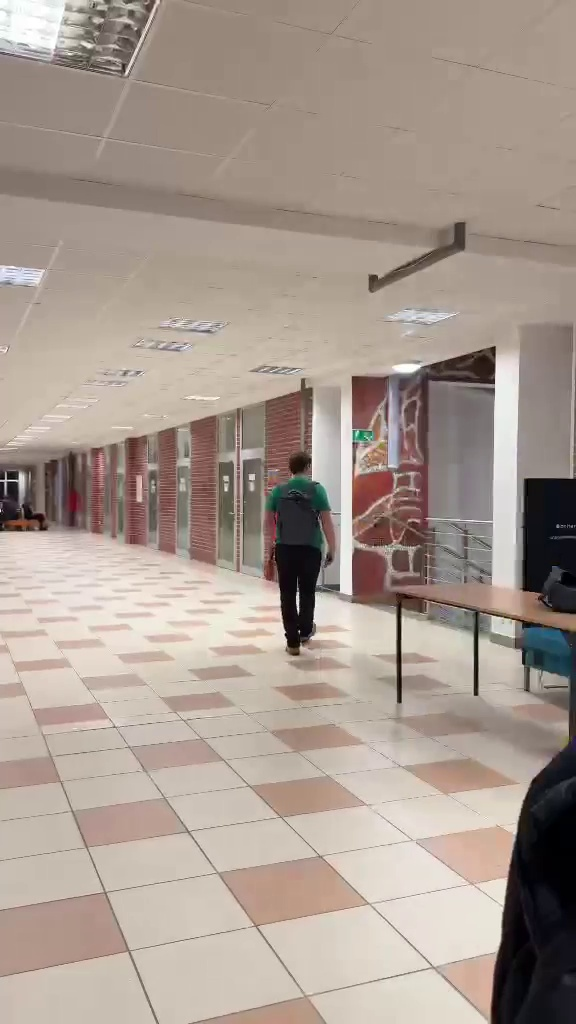no vest: (262, 440, 335, 660)
